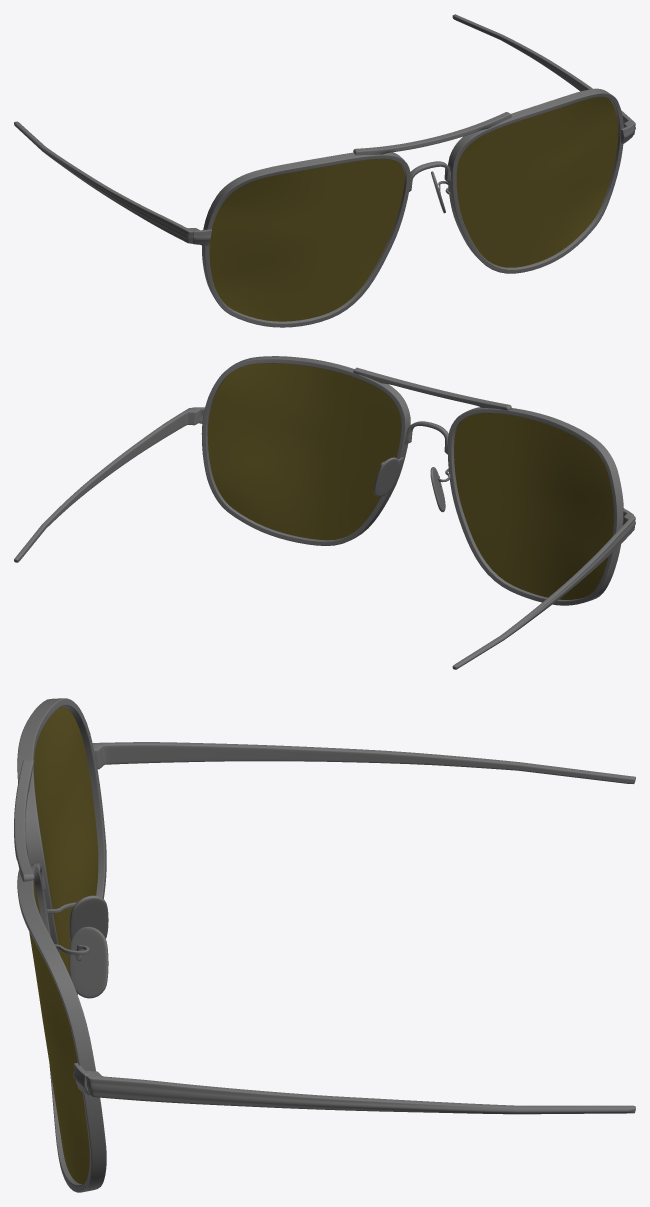
The model's file is chrm_semimagem.glb.
The picture shows the model from 3 angles, top to bottom: view 1: azimuth 30°, elevation 25°; view 2: azimuth 150°, elevation 25°; view 3: azimuth 270°, elevation 25°; orthographic projection. The views are drawn at different scales.
Visible parts, largest first — view 1: lentes, armacao; view 2: lentes, armacao; view 3: armacao, lentes.
Boxes of the visible parts, box(x1,y1,x2,y2) form: lentes: box(209, 97, 618, 321); armacao: box(14, 14, 635, 327); lentes: box(207, 363, 613, 599); armacao: box(14, 356, 635, 669); armacao: box(14, 698, 635, 1192); lentes: box(29, 706, 98, 1184).
Size of the model in its own units: 0.1573 by 0.0556 by 0.1173.
